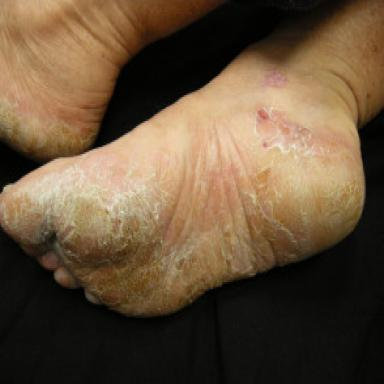eczema: (5, 156, 363, 314), (0, 97, 99, 158), (256, 109, 346, 157), (260, 69, 287, 87)
